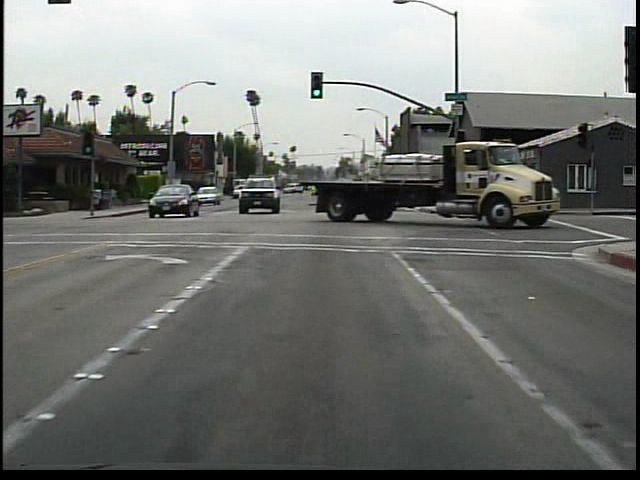person: (178, 182, 195, 206)
